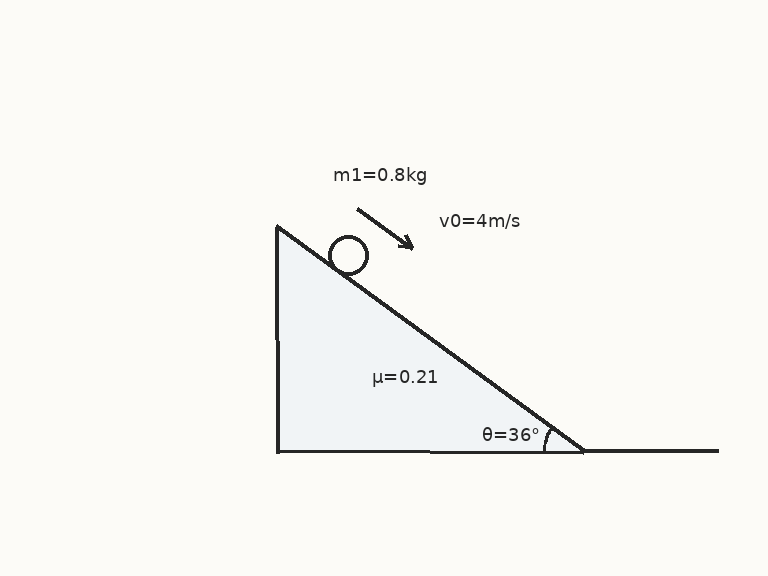ball: (326, 233, 370, 277)
ramp: (275, 226, 586, 453)
